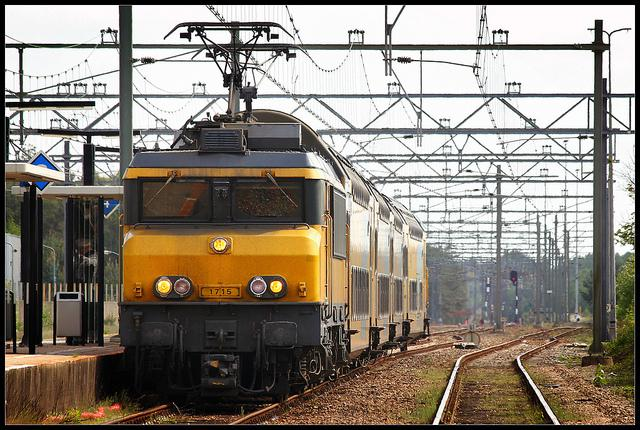Train: (120, 82, 433, 406)
